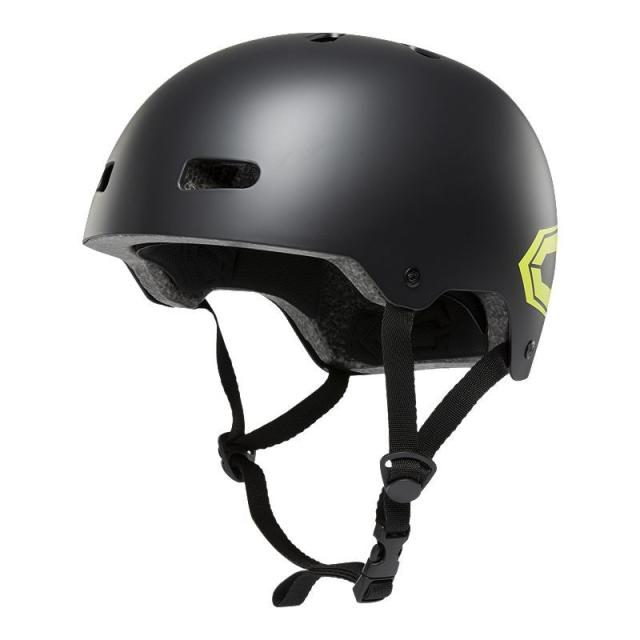Helmet: (80, 29, 562, 383)
